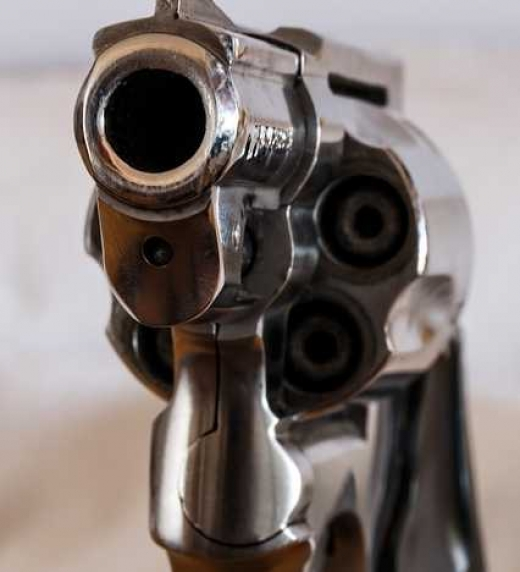Revolver: (21, 1, 496, 571)
